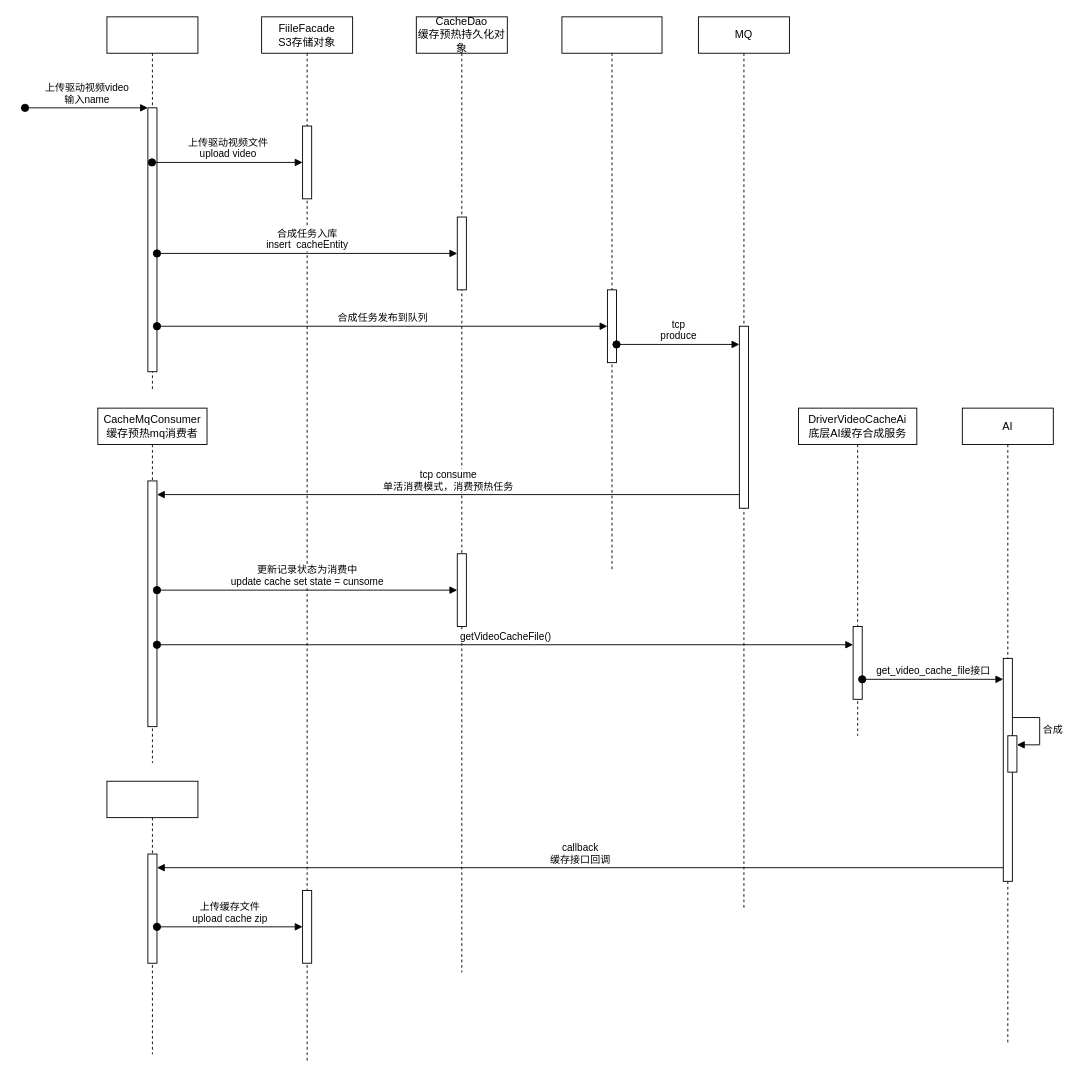
This 1079x1079 diagram has some shape labels left out. Here are the shapes that lost their labels. From the top down, the box of each, then its label:
(106, 16, 198, 390): UploadCache接口
(561, 16, 662, 572): CacheMqProducer缓存预热mq生产者
(106, 780, 198, 1054): CacheFileCallback 缓存预热回调接口
